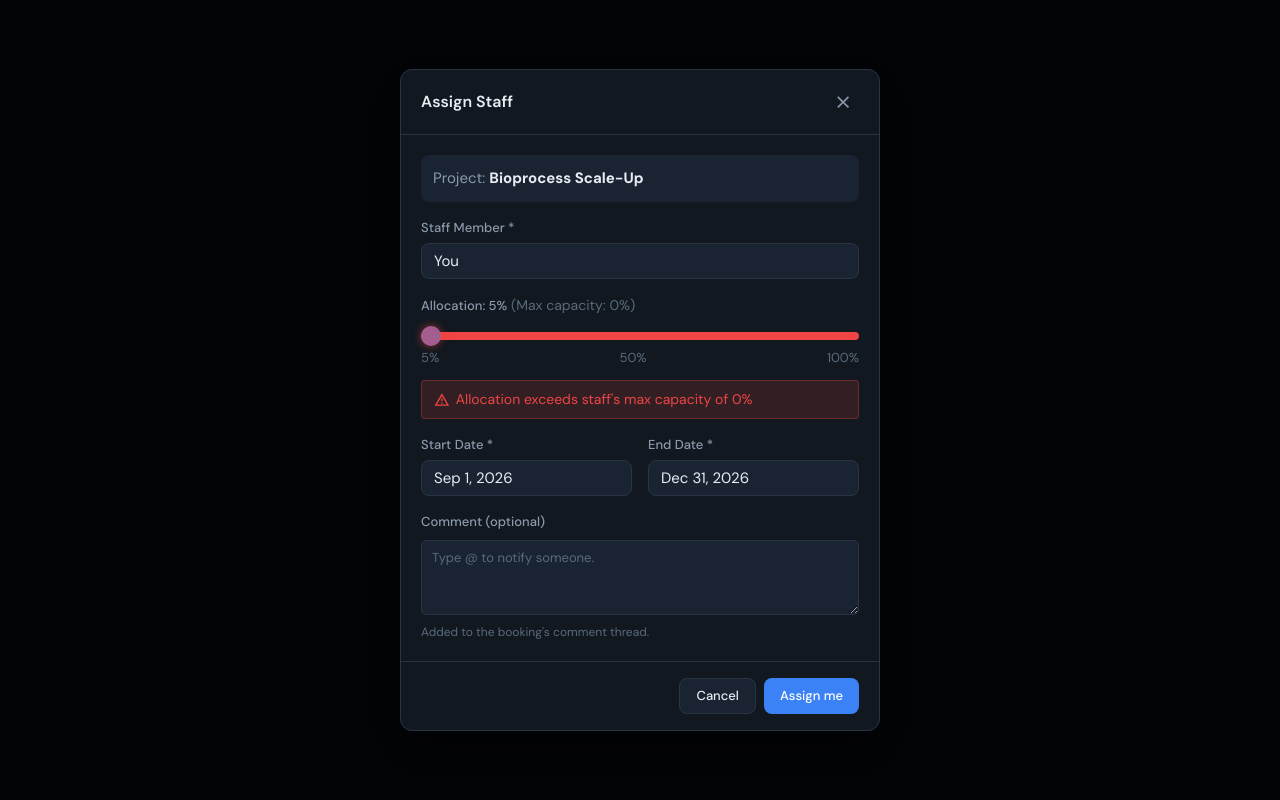
Scenario: AssignmentModal initialisation › refuses an allocation below 5 %
Click the button "Assign me" at (812, 696), box [764, 678, 859, 714]
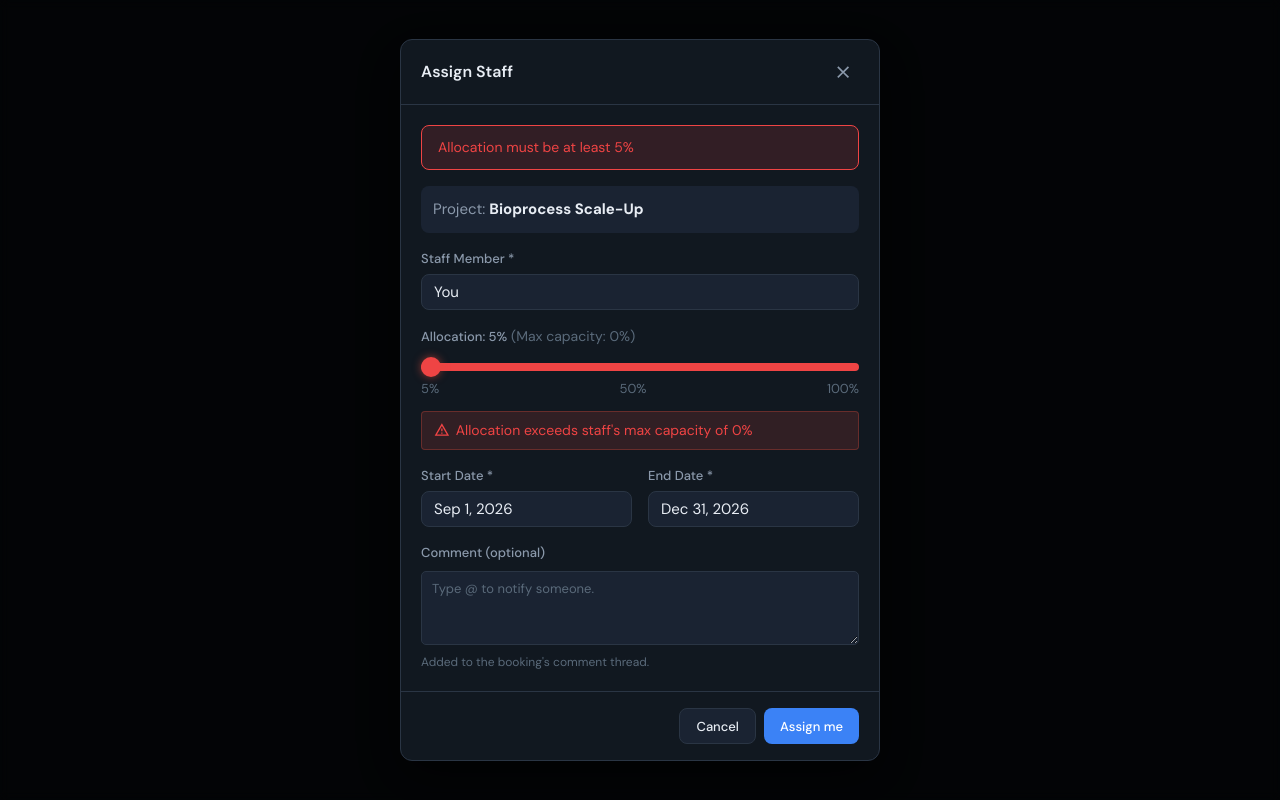
Expected: the text "Allocation must be at least 5%" is shown, [438, 138, 634, 156]
